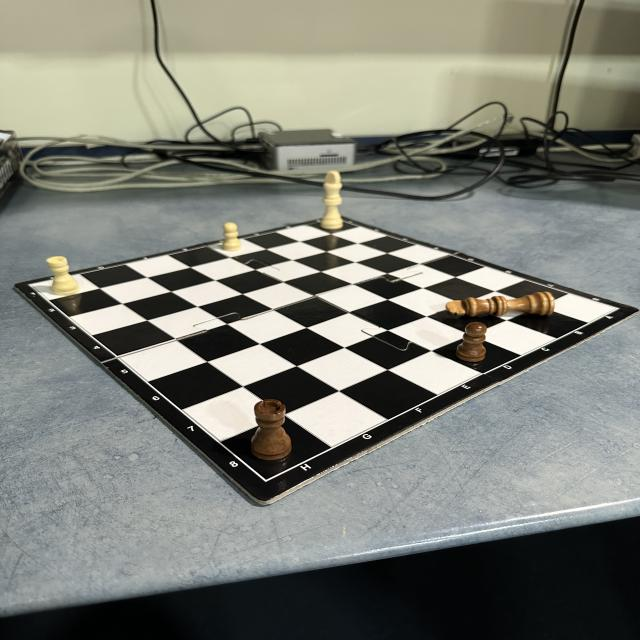Black-King: (446, 291, 556, 316)
Black-Pawn: (459, 318, 487, 362)
Black-Rook: (250, 399, 289, 460)
White-King: (320, 170, 342, 232)
White-Pawn: (222, 222, 240, 252)
White-Rook: (46, 255, 78, 295)
